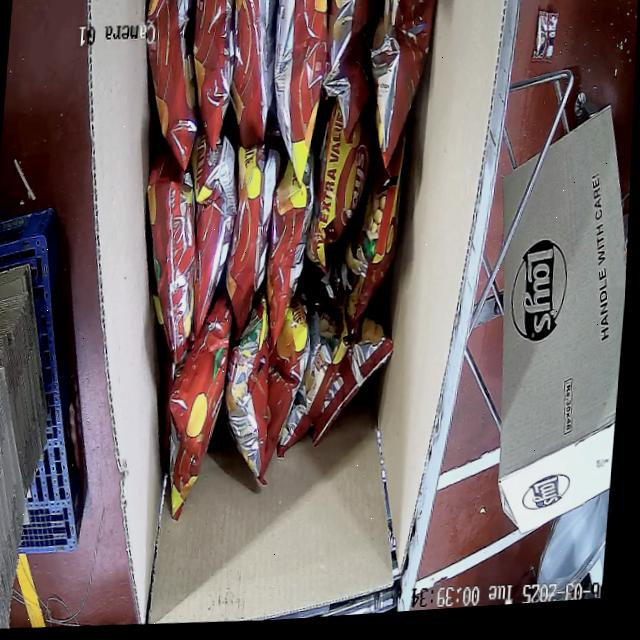MASALA: (105, 0, 437, 531)
